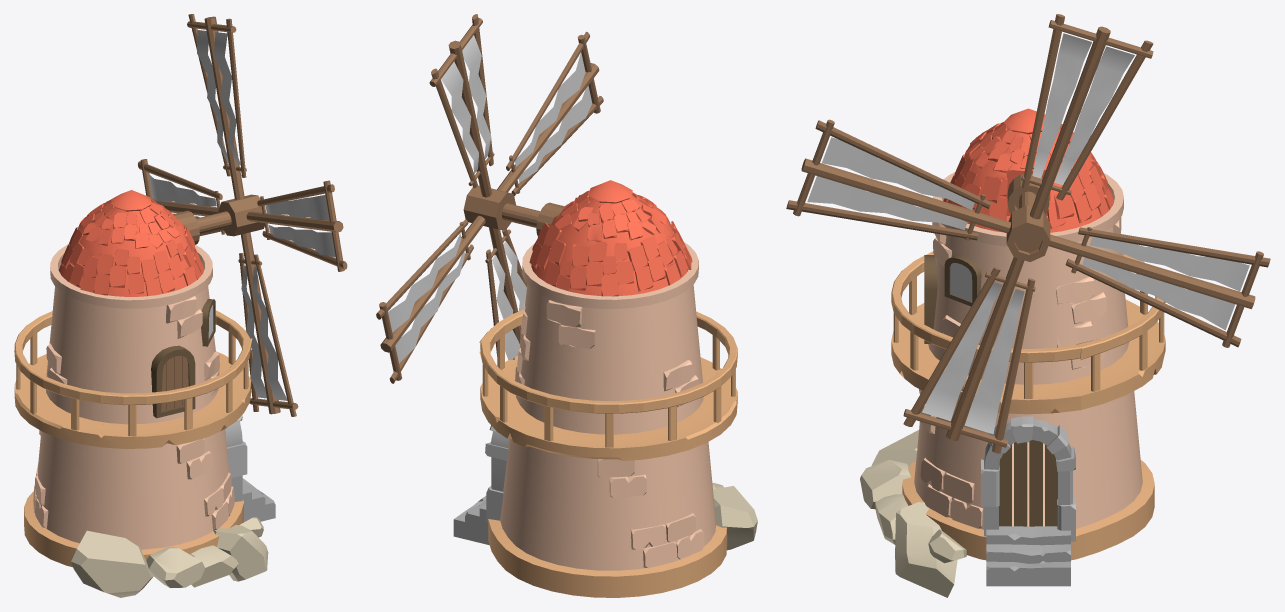
File: Windmill.gltf
3 renders of one model, left to right at view 1: azimuth 30°, elevation 25°; view 2: azimuth 150°, elevation 25°; view 3: azimuth 270°, elevation 25°, orthographic. The views are drawn at different scales.
Visible parts, largest first — view 1: Circle.003, ea3.windmill.windTurbine.001, Cube.010, Cube.006, Cube.009, Circle.002, Cube.013, Cube.012, Plane.003, Cylinder.001, Cube.015, Cone.001 (+3 smaller); view 2: Circle.003, ea3.windmill.windTurbine.001, Cube.006, Cube.009, Circle.002, Cube.012, Cube.010, Plane.003, Cylinder.001, Cube.015, Cone.001, Cube.017; view 3: ea3.windmill.windTurbine.001, Circle.003, Cube.010, Cube.006, Cube.009, Plane.003, Plane.004, Circle.002, Cube.015, Cube.012, Cube.017, Cube.013 (+4 smaller).
Boxes of the visible parts, x1=… form: Circle.003: x1=14, y1=204, x2=251, y2=567; ea3.windmill.windTurbine.001: x1=137, y1=14, x2=347, y2=416; Cube.010: x1=71, y1=517, x2=268, y2=597; Cube.006: x1=61, y1=196, x2=204, y2=295; Cube.009: x1=33, y1=296, x2=234, y2=530; Circle.002: x1=14, y1=310, x2=252, y2=405; Cube.013: x1=151, y1=345, x2=195, y2=418; Cube.012: x1=16, y1=332, x2=248, y2=436; Plane.003: x1=242, y1=478, x2=275, y2=521; Cylinder.001: x1=173, y1=210, x2=231, y2=244; Cube.015: x1=227, y1=415, x2=247, y2=477; Cone.001: x1=111, y1=190, x2=151, y2=211; Circle.003: x1=480, y1=194, x2=737, y2=597; ea3.windmill.windTurbine.001: x1=376, y1=14, x2=603, y2=383; Cube.006: x1=529, y1=190, x2=692, y2=296; Cube.009: x1=515, y1=300, x2=704, y2=568; Circle.002: x1=479, y1=309, x2=737, y2=413; Cube.012: x1=482, y1=334, x2=735, y2=447; Cube.010: x1=712, y1=483, x2=757, y2=550; Plane.003: x1=453, y1=496, x2=489, y2=545; Cylinder.001: x1=502, y1=202, x2=564, y2=236; Cube.015: x1=485, y1=425, x2=508, y2=522; Cone.001: x1=588, y1=180, x2=632, y2=203; Cube.017: x1=490, y1=431, x2=508, y2=491; ea3.windmill.windTurbine.001: x1=786, y1=14, x2=1270, y2=453; Circle.003: x1=891, y1=124, x2=1165, y2=560; Cube.010: x1=860, y1=430, x2=966, y2=597; Cube.006: x1=945, y1=122, x2=1114, y2=229; Cube.009: x1=919, y1=217, x2=1123, y2=528; Plane.003: x1=986, y1=526, x2=1070, y2=586; Plane.004: x1=999, y1=440, x2=1057, y2=526; Circle.002: x1=891, y1=251, x2=1165, y2=362; Cube.015: x1=981, y1=416, x2=1075, y2=541; Cube.012: x1=893, y1=277, x2=1164, y2=398; Cube.017: x1=984, y1=419, x2=1072, y2=536; Cube.013: x1=924, y1=255, x2=937, y2=343.
Bounding box in the file's own units: 3.82 × 8.25 × 6.
